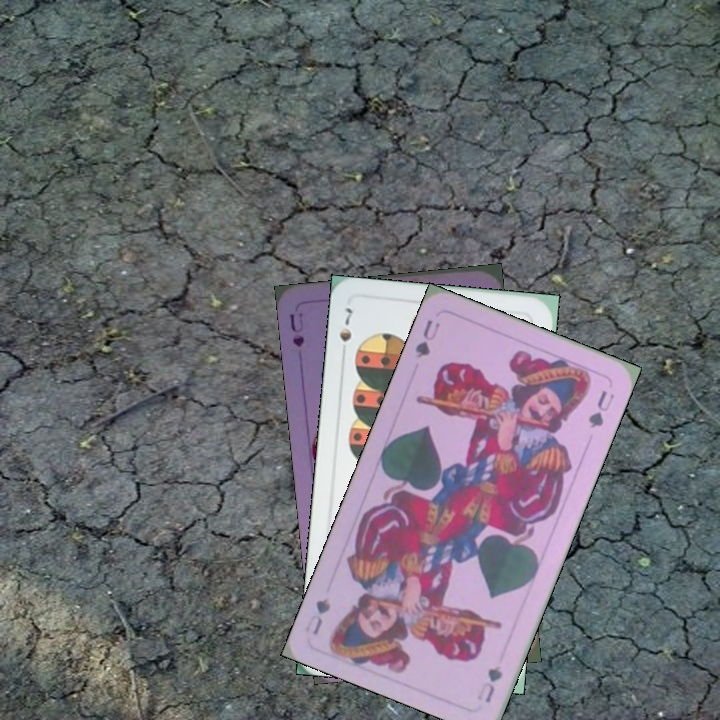GU: (411, 315, 443, 361), (473, 661, 505, 706)
S7: (335, 303, 355, 360)
SU: (285, 308, 307, 350)
